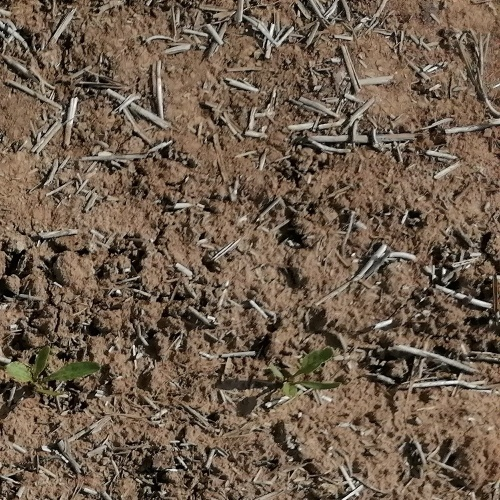beet: (4, 345, 99, 394), (267, 347, 339, 396)
